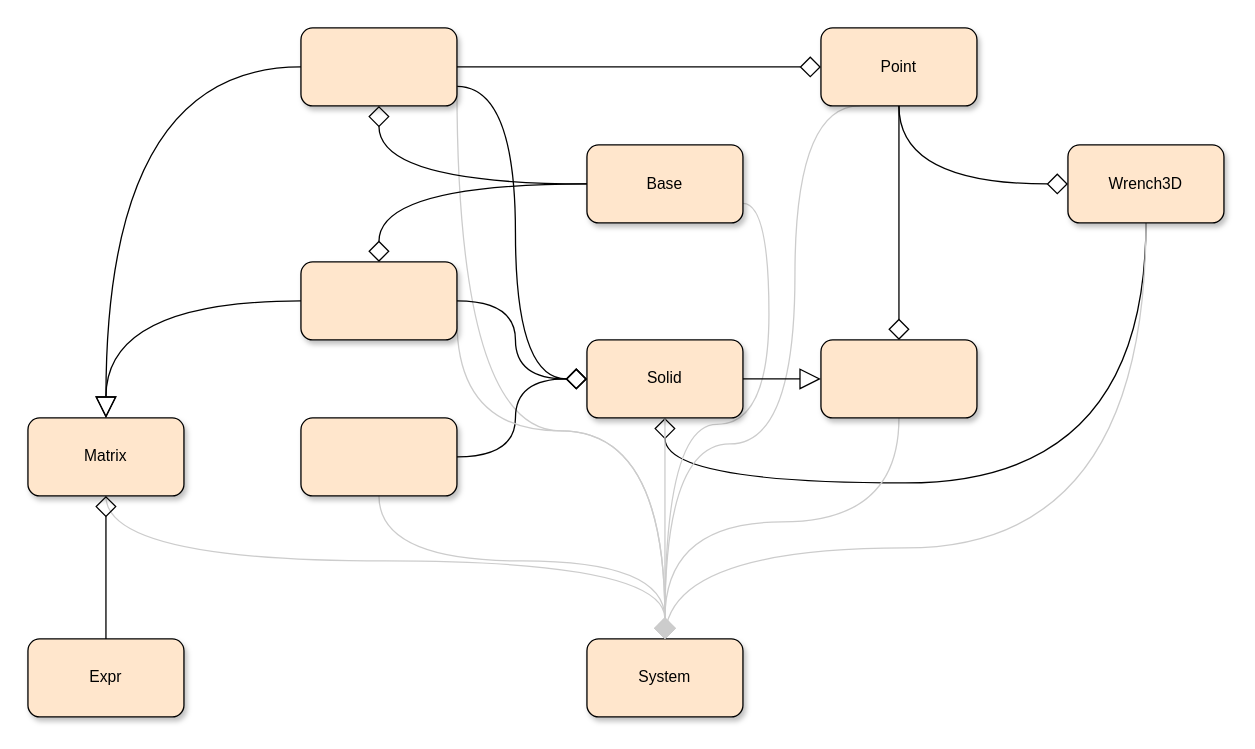
This 1255x749 diagram has some shape labels left out. The centre of each missing label's shape, as x and y in pixels:
Frame: the point at 899,380
SymbolNumeric: the point at 379,458
Tensor3D: the point at 379,302
Vector3D: the point at 379,68
